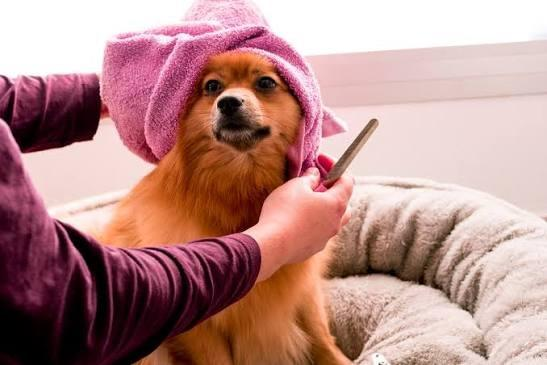adult_dog: (63, 49, 352, 365)
non-dog: (1, 78, 349, 360)
